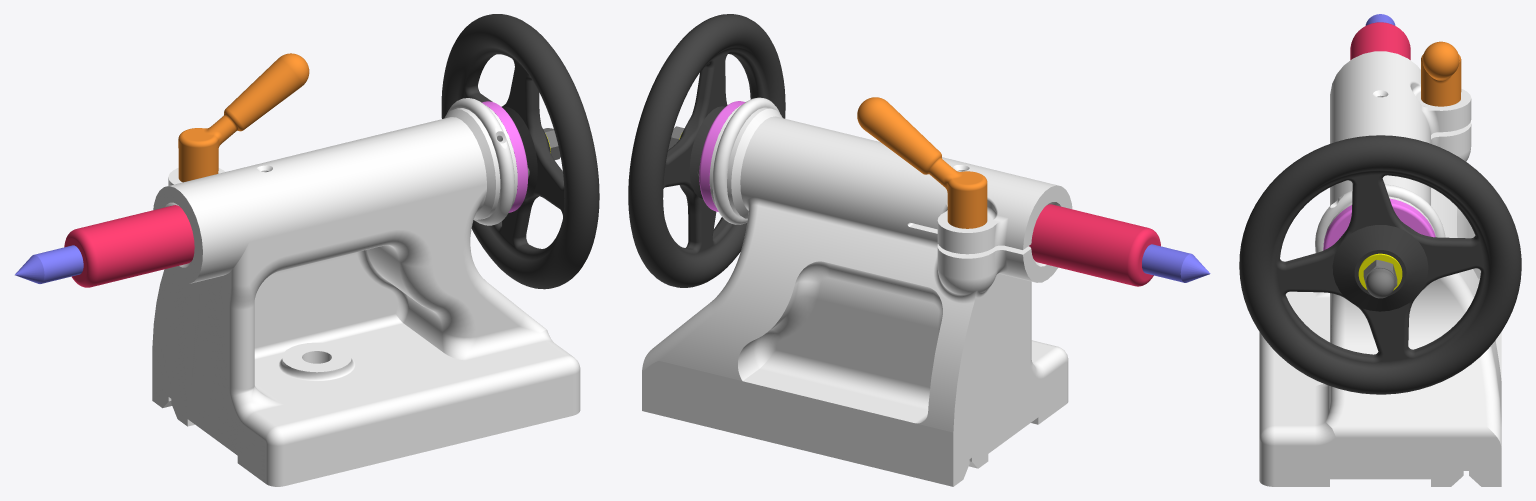
The model's file is ASSEMBLY.fbx.
3 views of the same model, side by side, from view 1: azimuth 30°, elevation 25°; view 2: azimuth 150°, elevation 25°; view 3: azimuth 270°, elevation 25° (orthographic).
Visible parts, largest first — view 1: BODY, HAND WHEEL, BARREL, CLAMPING LEVER, CENTER, SPINDEL BEARING; view 2: BODY, HAND WHEEL, BARREL, CLAMPING LEVER, CENTER, SPINDEL BEARING; view 3: BODY, HAND WHEEL, CLAMPING LEVER, BARREL, SPINDEL BEARING, domed cap nut_din, WASHER.
Boxes of the visible parts, x1,y1,x2,y2 form: BODY: (152, 98, 580, 486); HAND WHEEL: (441, 14, 599, 289); BARREL: (64, 205, 194, 287); CLAMPING LEVER: (178, 53, 309, 182); CENTER: (15, 245, 83, 283); SPINDEL BEARING: (482, 101, 528, 212); BODY: (642, 97, 1072, 486); HAND WHEEL: (628, 14, 785, 287); BARREL: (1029, 204, 1160, 286); CLAMPING LEVER: (857, 97, 987, 228); CENTER: (1142, 244, 1210, 282); SPINDEL BEARING: (699, 101, 745, 211); BODY: (1259, 51, 1501, 486); HAND WHEEL: (1239, 135, 1521, 394); CLAMPING LEVER: (1421, 41, 1461, 106); BARREL: (1350, 22, 1410, 59); SPINDEL BEARING: (1323, 198, 1435, 250); domed cap nut_din: (1363, 260, 1397, 298); WASHER: (1358, 253, 1402, 290).
Size of the model in its own units: 38.48 by 22.79 by 16.78.
